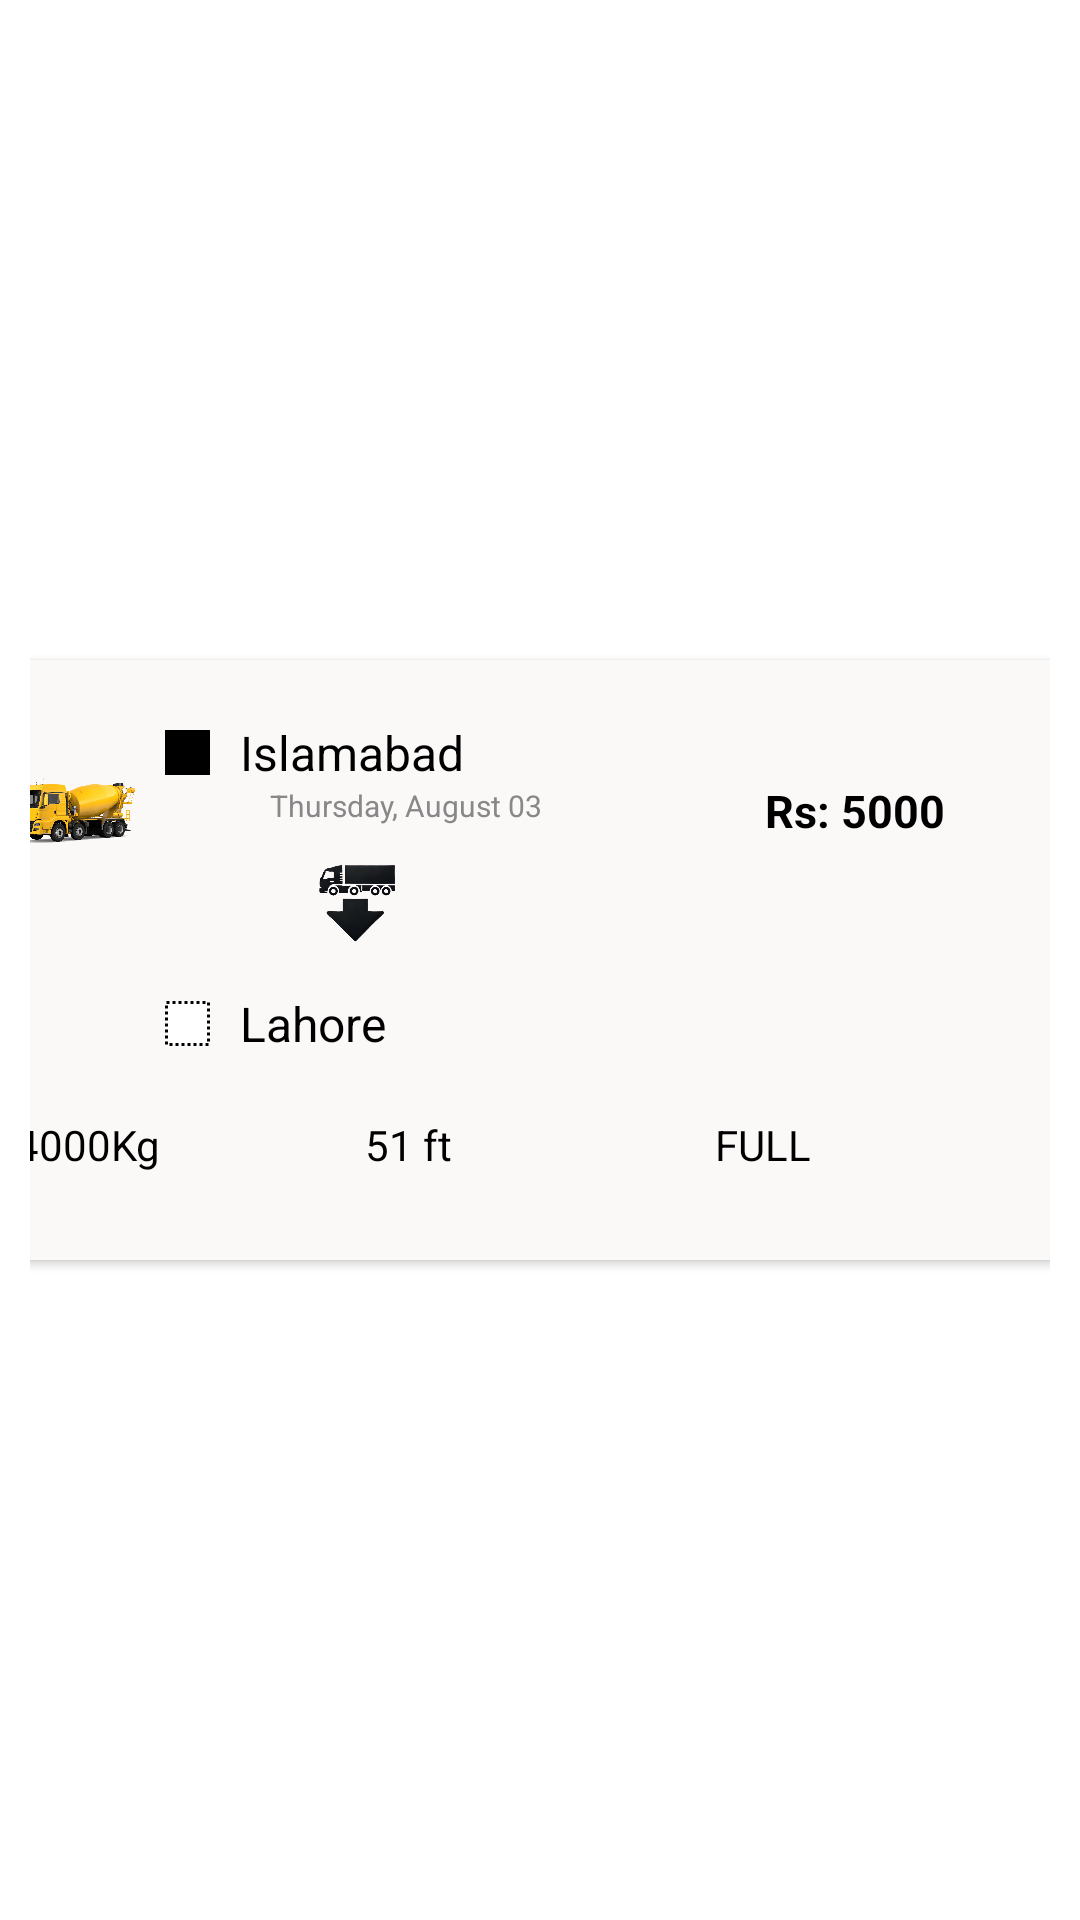

Icon bounding boxes for this 1080px x 1920px phone screenshot, format (x1, y1, x2, y2):
arrow: (319, 865, 395, 942)
truck: (30, 778, 135, 843)
